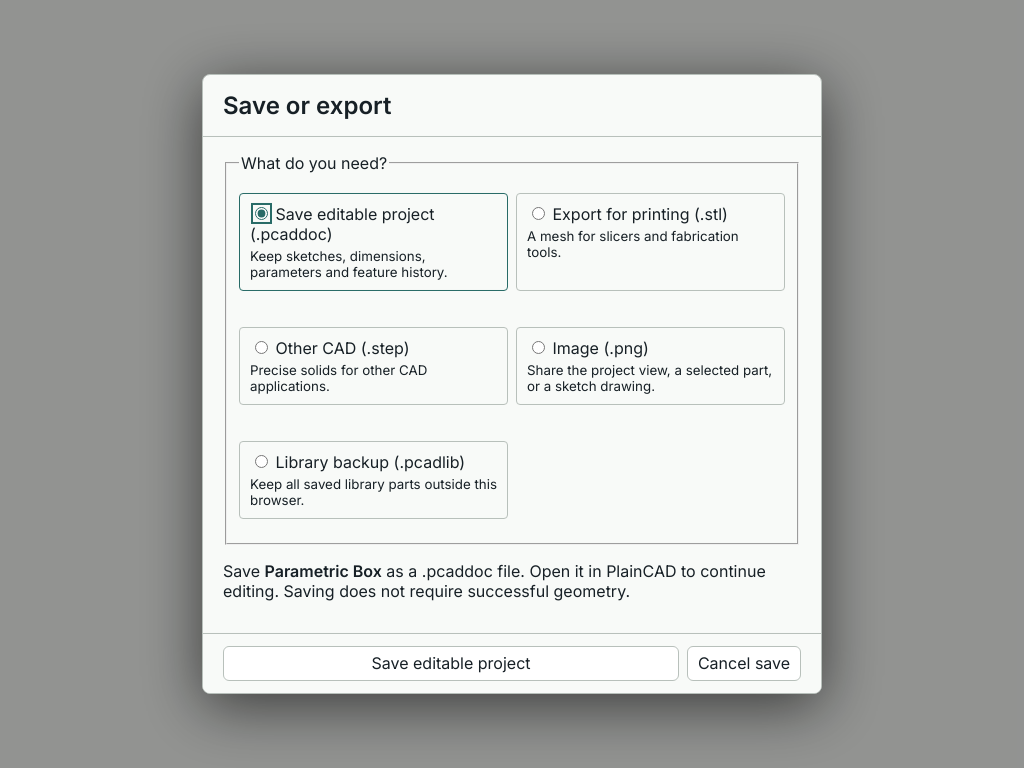
Scenario: reacts to captured selection changes while the hub stays open
Click the radio button labelled "Image (.png)": (538, 347) [532,341,545,354]
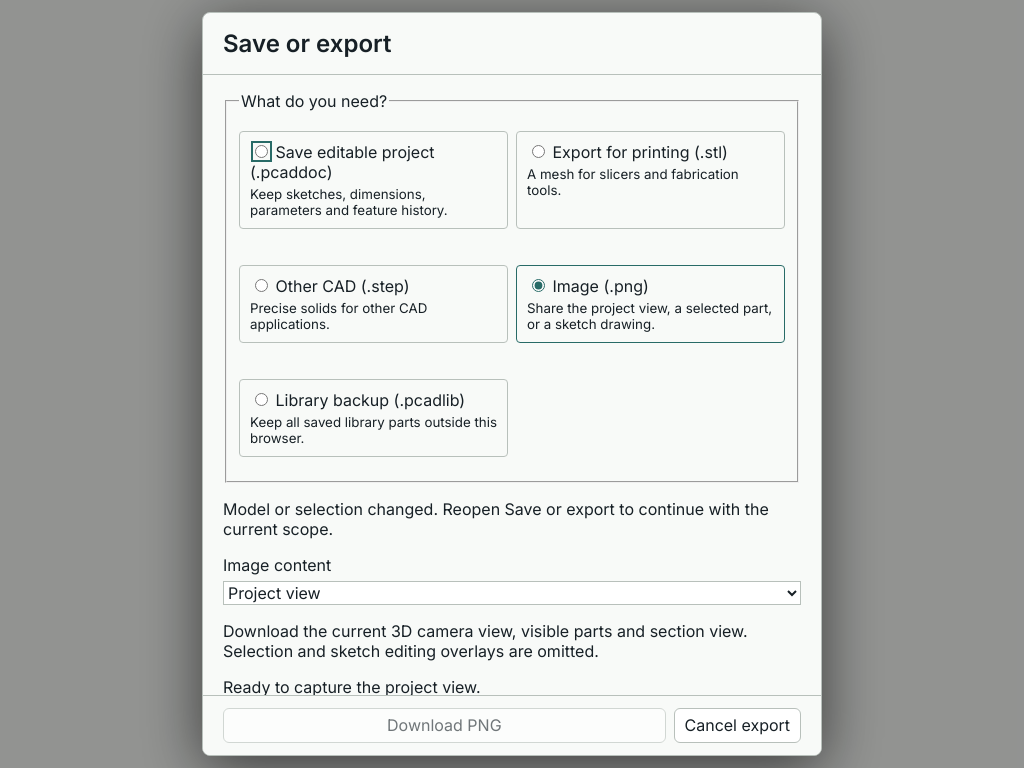
Expected: the button "Download PNG" is disabled, [223,708,666,743]
Expected: the text "Model or selection changed" is shown, [223,499,769,539]
